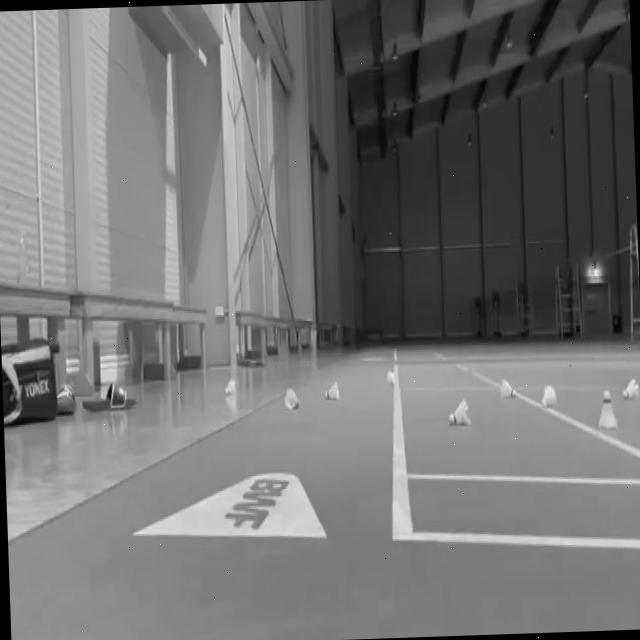Shuttle: (596, 389, 618, 429), (447, 396, 471, 426), (540, 382, 556, 408), (621, 378, 639, 400), (284, 386, 300, 410), (499, 376, 516, 398), (323, 380, 339, 400), (223, 377, 235, 394), (385, 369, 395, 386)
